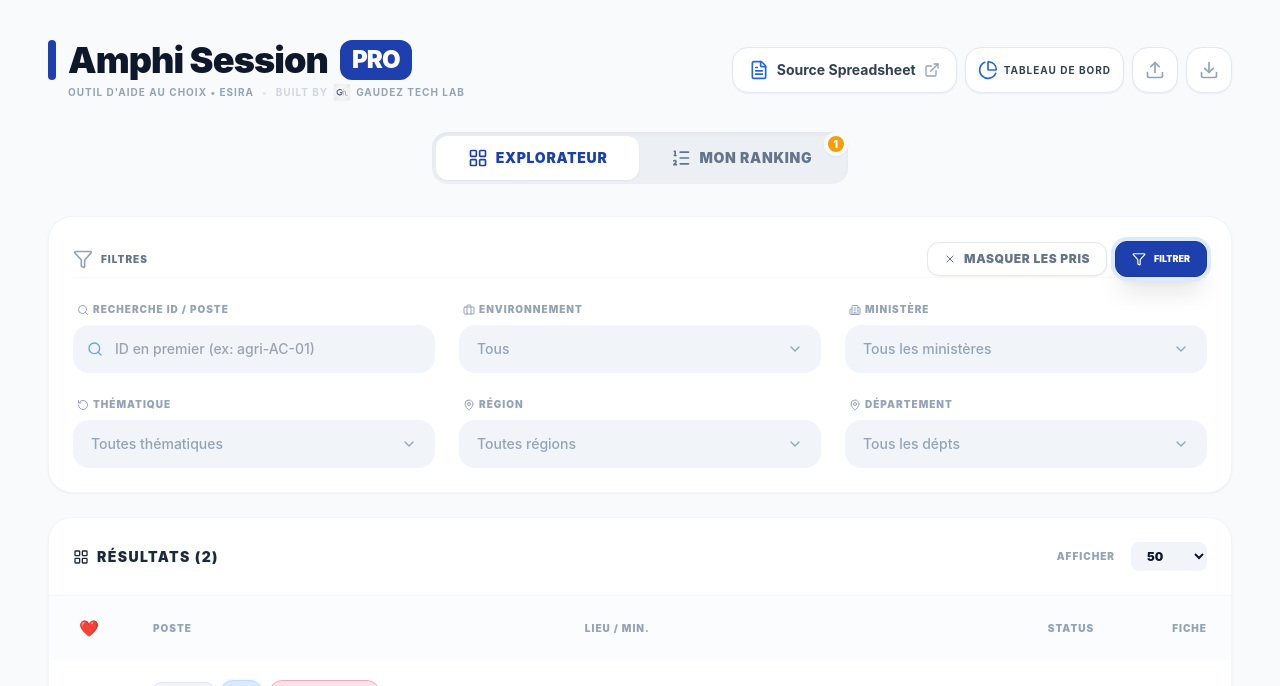
App shared notes › does not render a separate chevron affordance in desktop rows
Click the button "Mon Ranking 1": (742, 158) [639,136,844,180]
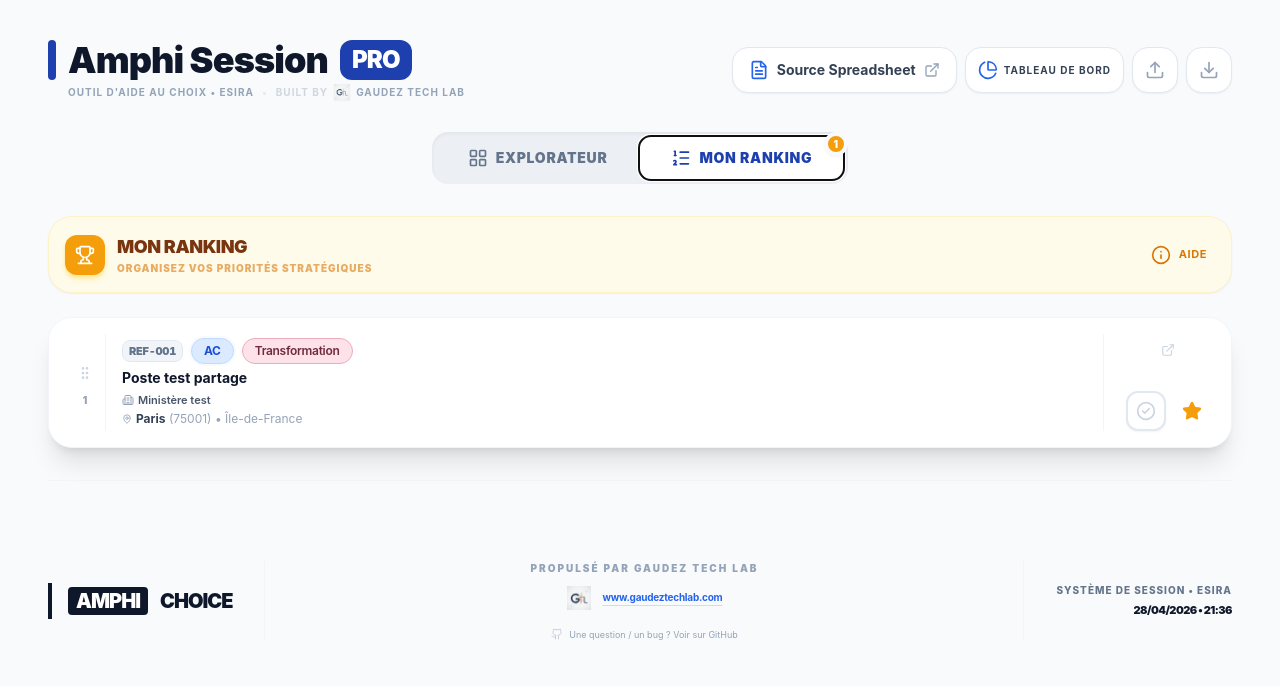
Expected: the icon with class "lucide-chevron-down" is gone
